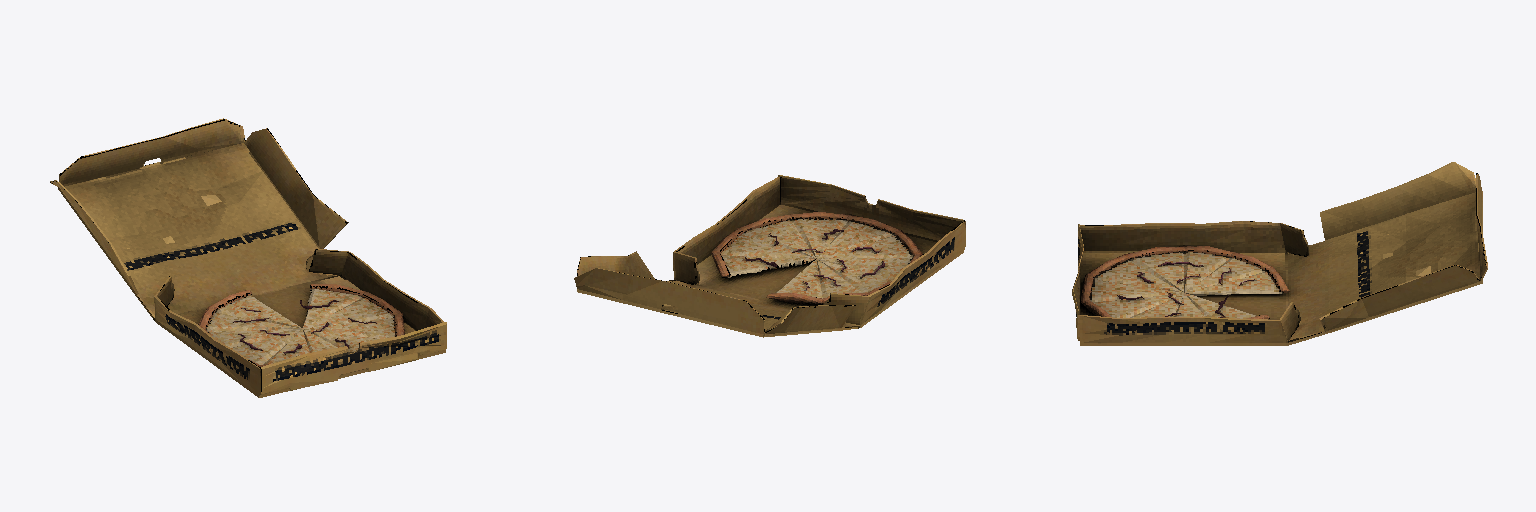
3 views of the same model, side by side, from view 1: azimuth 30°, elevation 25°; view 2: azimuth 150°, elevation 25°; view 3: azimuth 270°, elevation 25° (orthographic).
Parts seen in each view (by area): view 1: PizzaBox_lambert20_0_PizzaBox_lambert20_0_lambert20; view 2: PizzaBox_lambert20_0_PizzaBox_lambert20_0_lambert20; view 3: PizzaBox_lambert20_0_PizzaBox_lambert20_0_lambert20.
Boxes of the visible parts, <box> form: PizzaBox_lambert20_0_PizzaBox_lambert20_0_lambert20: <box>50,118,446,397</box>; PizzaBox_lambert20_0_PizzaBox_lambert20_0_lambert20: <box>574,175,965,337</box>; PizzaBox_lambert20_0_PizzaBox_lambert20_0_lambert20: <box>1072,162,1487,345</box>.
Size of the model in its own units: 0.8087 by 0.3129 by 1.29.
Materials: 1 (1 with a texture image).